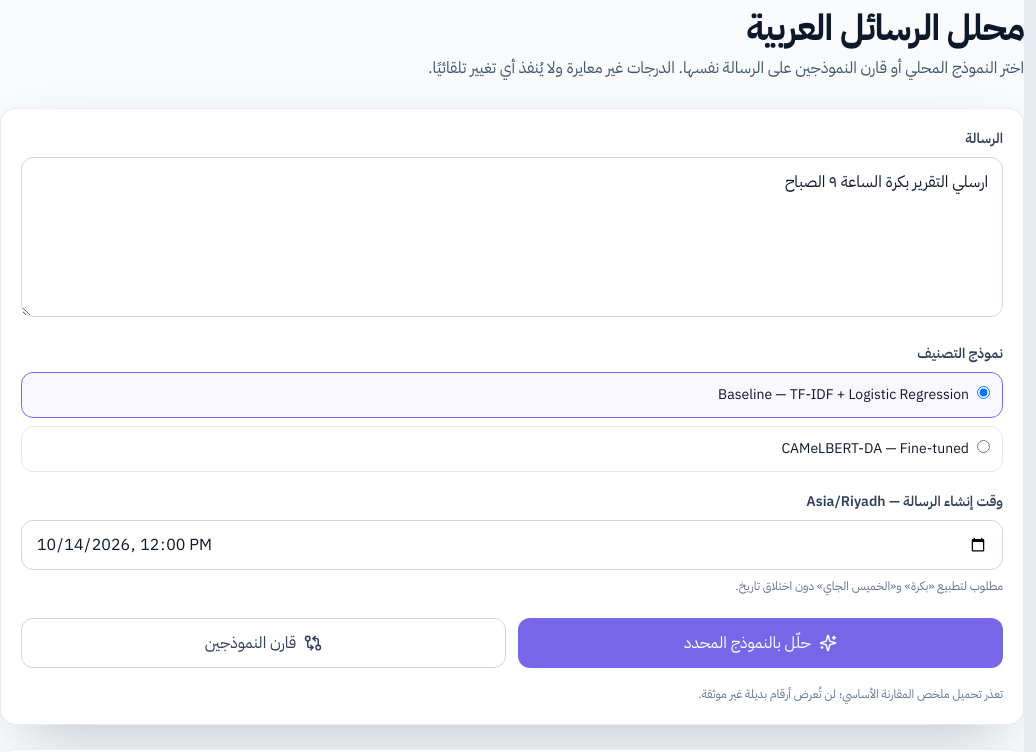
it: Compare Both renders baseline and CAMeLBERT results for one API request
The width and height of the screenshot is (1036, 752).
Click the button "قارن النموذجين" at (264, 643), box [21,618,506,668]
(page scrolled)
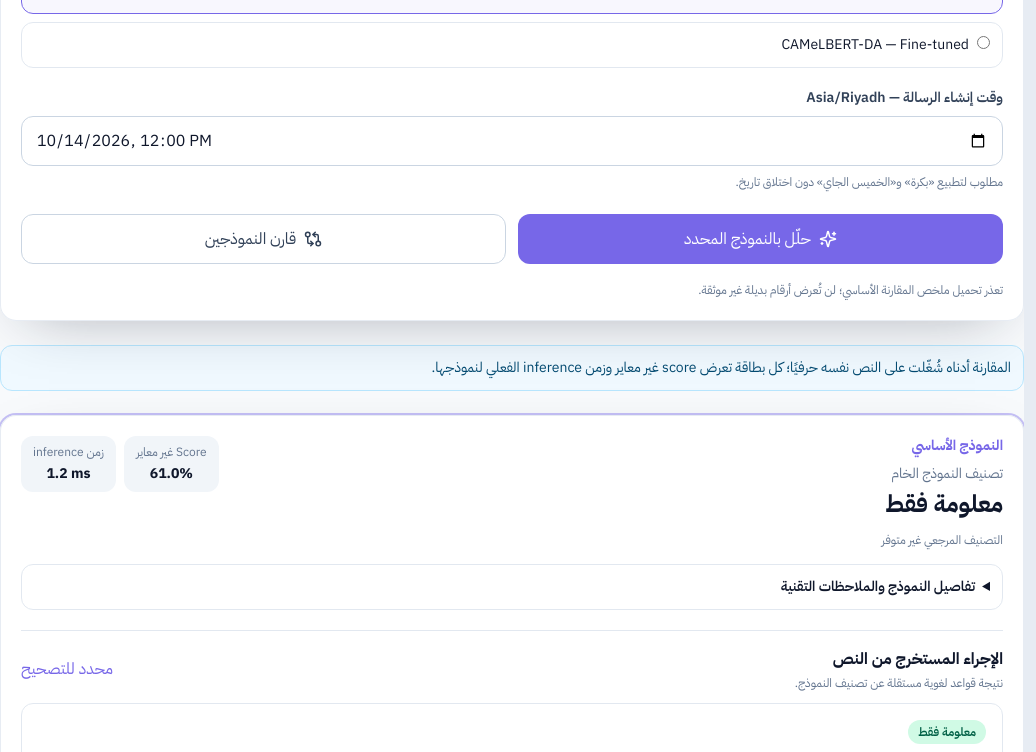
Now the text "شُغّلت على النص نفسه حرفيًا" is shown, box [431,357,1011,378]
